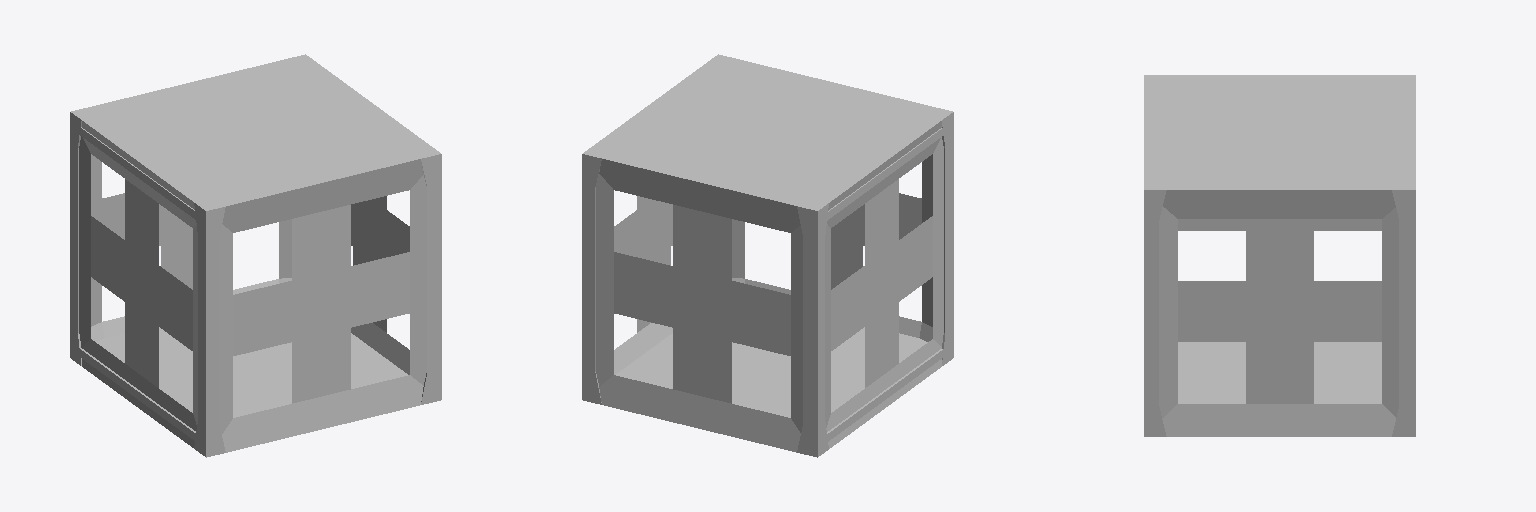
File: StageEdit0204.obj
3 renders of one model, left to right at view 1: azimuth 30°, elevation 25°; view 2: azimuth 150°, elevation 25°; view 3: azimuth 270°, elevation 25°, orthographic.
Parts seen in each view (by area): view 1: 立方体_立方体.002; view 2: 立方体_立方体.002; view 3: 立方体_立方体.002.
Boxes of the visible parts, box(x1,y1,x2,y2) form: 立方体_立方体.002: box(70, 54, 441, 457); 立方体_立方体.002: box(582, 54, 953, 457); 立方体_立方体.002: box(1144, 75, 1415, 436).
Bounding box in the file's own units: 60 × 60 × 60.